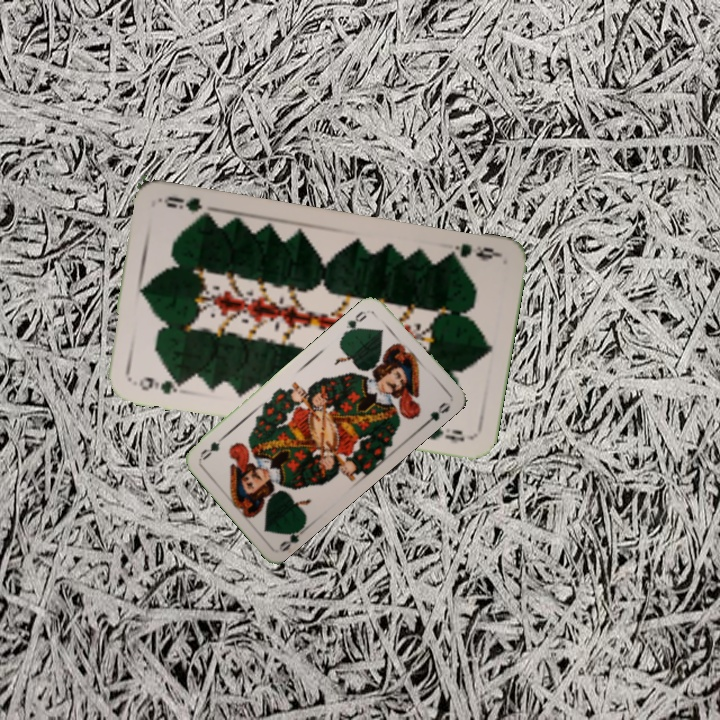G9: (442, 239, 502, 263), (135, 373, 186, 397)
GO: (275, 520, 311, 554), (340, 307, 369, 336)
